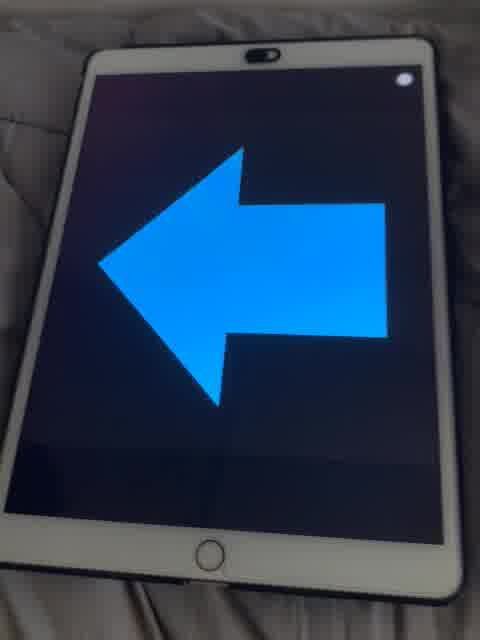left: (97, 141, 397, 417)
